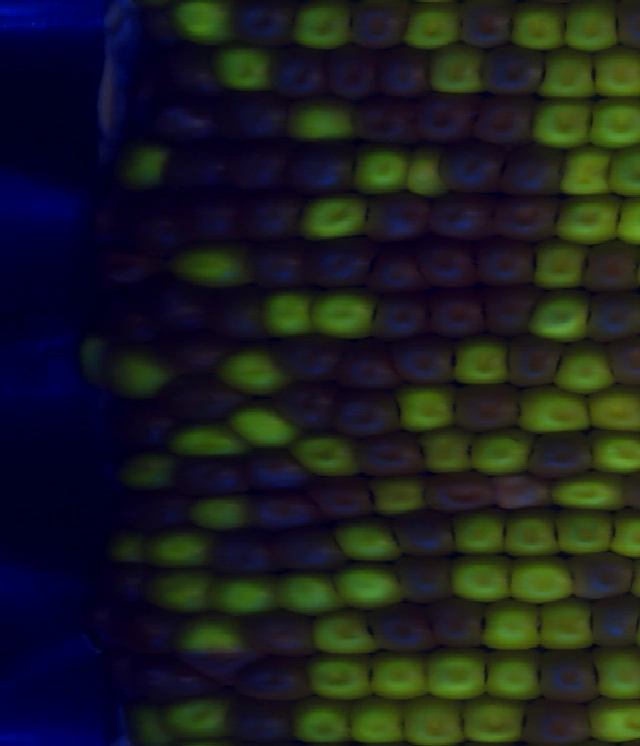fluorescent: (513, 386, 592, 436), (528, 288, 594, 347), (554, 193, 629, 243), (283, 1, 355, 52), (460, 695, 532, 746), (422, 648, 491, 701), (537, 46, 601, 103), (554, 339, 618, 396), (170, 246, 252, 290), (480, 597, 545, 652), (311, 288, 382, 338), (217, 348, 285, 399), (216, 43, 279, 98), (286, 97, 364, 141), (484, 645, 544, 702), (164, 1, 238, 47), (305, 651, 375, 699), (331, 519, 404, 565), (255, 289, 322, 339), (427, 40, 486, 96), (347, 692, 408, 746), (332, 563, 406, 607), (348, 145, 409, 198), (531, 99, 594, 150), (590, 43, 640, 107), (508, 558, 580, 602), (587, 645, 640, 704), (403, 694, 463, 746), (560, 3, 621, 54), (552, 510, 619, 556), (447, 555, 515, 600), (172, 698, 237, 745), (390, 387, 461, 430), (292, 696, 353, 746), (300, 197, 372, 239), (581, 383, 640, 434), (369, 650, 429, 700), (535, 600, 596, 649), (451, 508, 513, 556), (451, 341, 516, 386), (397, 6, 468, 47), (558, 146, 615, 197), (315, 610, 381, 654), (472, 427, 532, 475), (178, 622, 258, 658), (275, 571, 342, 613), (500, 510, 562, 555), (168, 426, 257, 457), (113, 350, 168, 400), (224, 411, 298, 448), (554, 474, 627, 511), (417, 429, 476, 474), (535, 242, 587, 293), (590, 95, 640, 148), (215, 574, 281, 613), (583, 696, 640, 741), (287, 439, 365, 471), (511, 8, 570, 50), (152, 571, 214, 610), (120, 146, 169, 195), (129, 700, 179, 746), (368, 475, 426, 514), (404, 147, 449, 197), (588, 432, 640, 472), (188, 492, 246, 527), (148, 532, 210, 561), (123, 455, 175, 489), (77, 337, 112, 387), (609, 145, 640, 198), (108, 529, 152, 559)
nonfluorescent: (467, 238, 548, 292), (134, 657, 225, 705), (415, 238, 487, 296), (239, 609, 326, 657), (266, 524, 346, 574), (384, 510, 460, 562), (536, 645, 604, 703), (425, 193, 505, 242), (440, 140, 505, 200), (224, 691, 302, 740), (166, 144, 239, 196), (566, 548, 639, 600), (289, 141, 360, 193), (158, 379, 255, 417), (472, 90, 539, 145), (302, 238, 377, 287), (453, 381, 527, 430), (326, 389, 403, 436), (369, 601, 440, 651), (251, 242, 319, 294), (496, 192, 565, 243), (503, 337, 570, 389), (176, 455, 255, 499), (209, 290, 272, 345), (348, 435, 430, 477), (229, 139, 291, 194), (525, 432, 599, 478), (228, 89, 291, 143), (421, 470, 501, 512), (309, 474, 385, 518), (206, 526, 278, 572), (522, 697, 594, 743), (378, 40, 433, 100), (269, 383, 337, 431), (385, 339, 459, 383), (240, 449, 314, 493), (506, 142, 565, 197), (327, 44, 382, 102), (370, 195, 439, 241), (271, 337, 343, 381), (371, 245, 430, 298), (339, 347, 408, 392), (582, 241, 640, 294), (276, 47, 334, 100), (429, 597, 491, 646), (585, 594, 640, 648), (356, 97, 419, 144), (245, 194, 307, 241), (349, 1, 408, 50), (417, 92, 474, 142), (194, 196, 244, 253), (484, 41, 539, 92), (158, 291, 213, 342), (228, 1, 291, 45), (484, 286, 536, 338), (170, 94, 230, 139), (393, 557, 457, 599), (583, 293, 640, 339), (132, 213, 190, 257), (429, 294, 487, 338), (493, 469, 555, 510), (457, 2, 516, 45), (257, 492, 328, 527), (131, 493, 190, 534), (93, 247, 166, 280), (375, 297, 432, 339), (174, 49, 221, 98), (128, 607, 177, 654), (124, 408, 179, 448), (118, 303, 166, 347), (108, 564, 159, 604), (167, 346, 230, 374), (81, 607, 123, 646), (608, 335, 640, 384)
